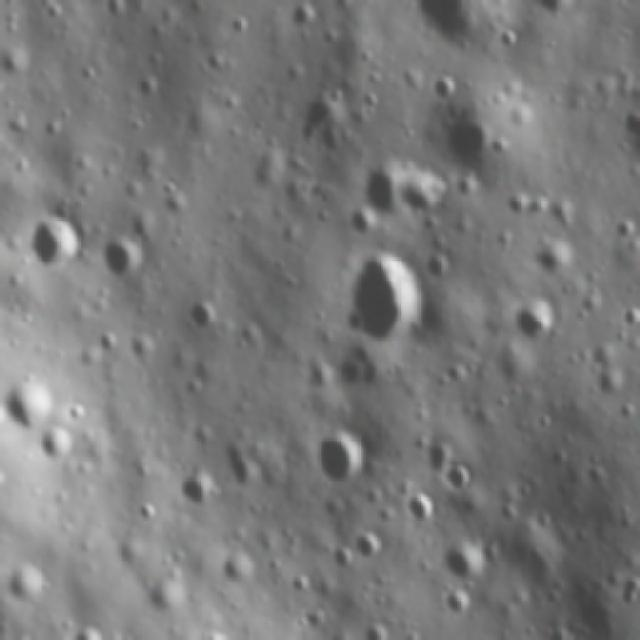crater: (338, 245, 432, 347), (444, 103, 502, 174), (314, 427, 372, 490), (6, 375, 63, 437), (30, 213, 84, 273), (302, 91, 358, 146), (392, 165, 446, 221), (336, 341, 390, 392), (510, 294, 562, 346), (443, 536, 491, 589), (96, 237, 149, 285), (2, 562, 53, 609), (219, 438, 264, 491), (530, 237, 576, 281), (144, 576, 190, 619), (178, 468, 220, 512), (36, 424, 78, 468), (218, 548, 262, 589), (187, 292, 224, 334), (426, 73, 462, 110), (350, 530, 388, 565), (313, 126, 352, 160), (419, 441, 456, 476), (161, 185, 196, 222), (404, 492, 439, 528), (588, 338, 621, 376), (592, 369, 626, 403), (442, 468, 480, 498), (130, 214, 162, 248), (290, 0, 322, 34), (134, 70, 164, 105), (548, 196, 578, 230), (281, 60, 310, 92), (583, 465, 609, 497), (443, 593, 472, 621), (504, 194, 534, 220), (65, 623, 110, 640), (612, 216, 638, 244), (620, 575, 640, 611), (333, 546, 358, 574), (364, 615, 390, 640), (301, 606, 327, 631), (361, 92, 387, 117), (542, 621, 576, 640), (204, 50, 227, 78), (230, 15, 256, 39), (498, 26, 520, 54), (45, 117, 66, 145), (618, 305, 640, 330), (618, 398, 636, 428), (534, 412, 554, 438), (5, 638, 44, 640)
